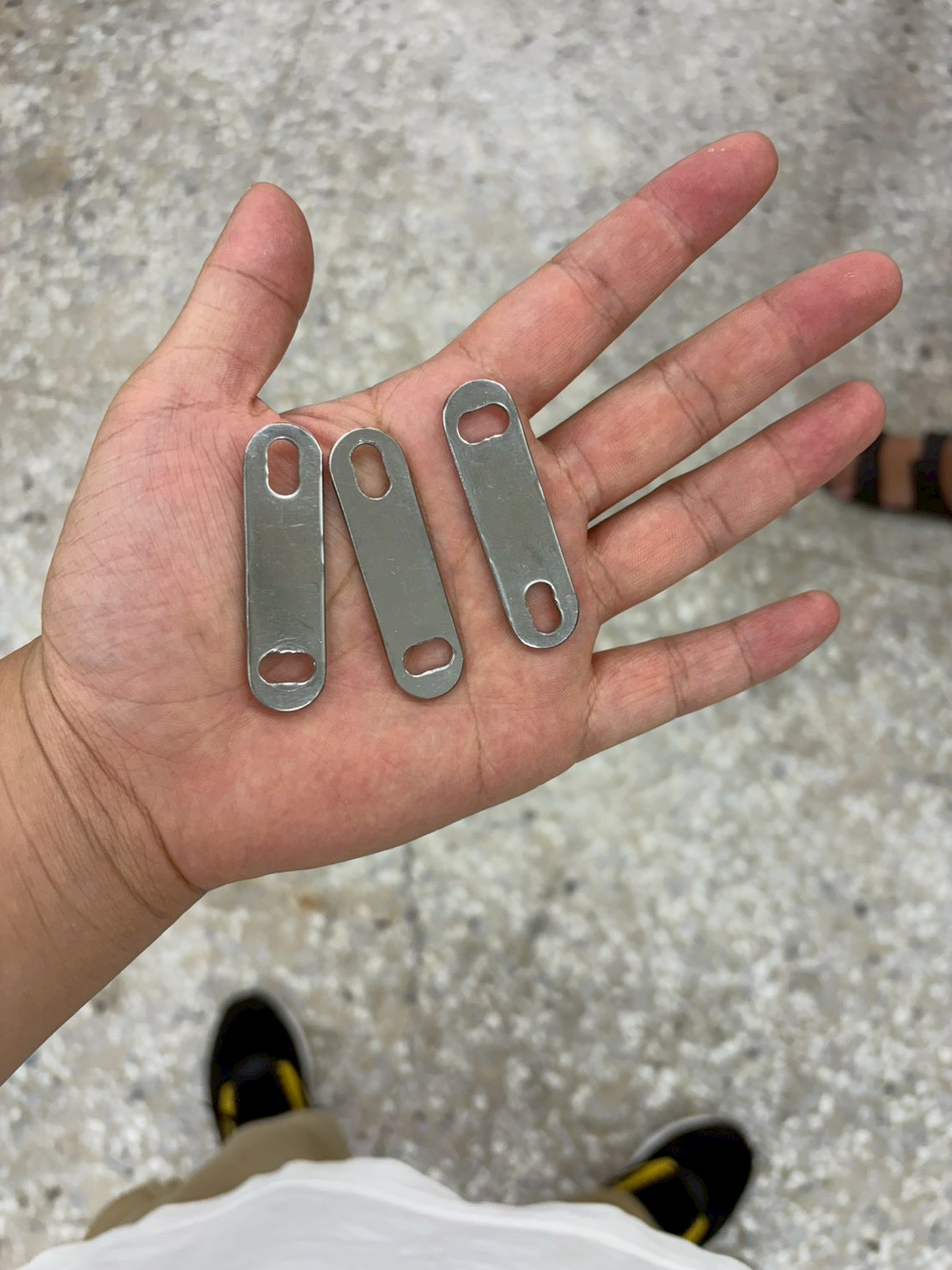Fe: (242, 420, 329, 712), (314, 444, 399, 727), (430, 388, 508, 671)
